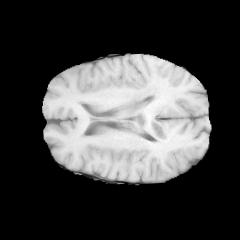glioma: (124, 83, 169, 141)
